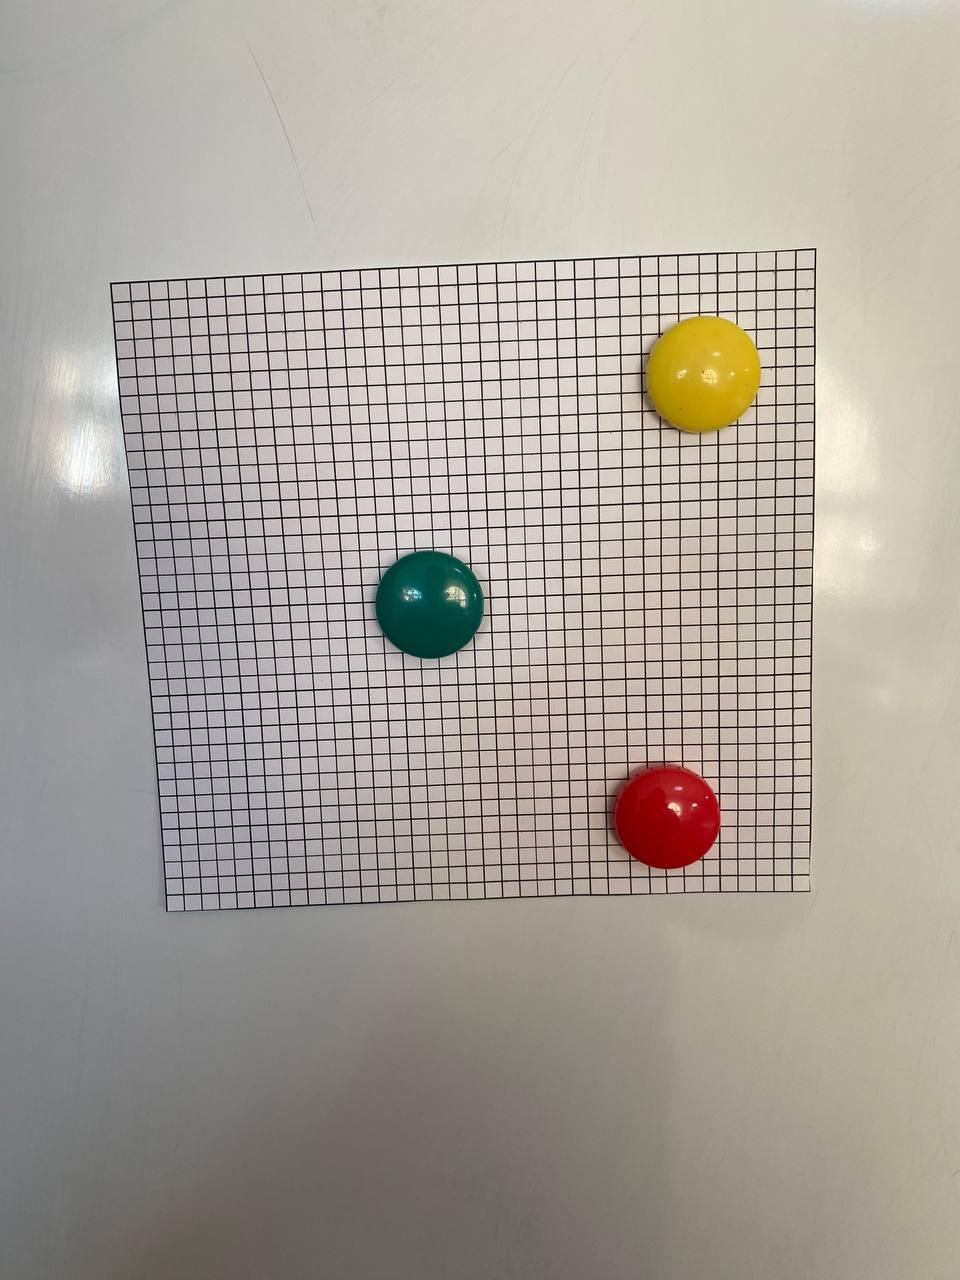grid: (96, 236, 838, 938)
